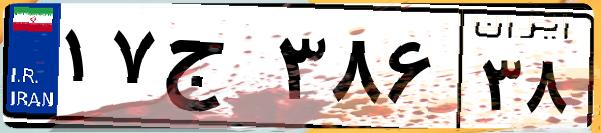1: (57, 26, 110, 100)
3: (270, 28, 330, 110), (475, 38, 525, 113)
6: (385, 28, 445, 110)
7: (110, 28, 158, 98)
8: (330, 28, 385, 110), (525, 38, 570, 115)
ج: (158, 20, 270, 120)
